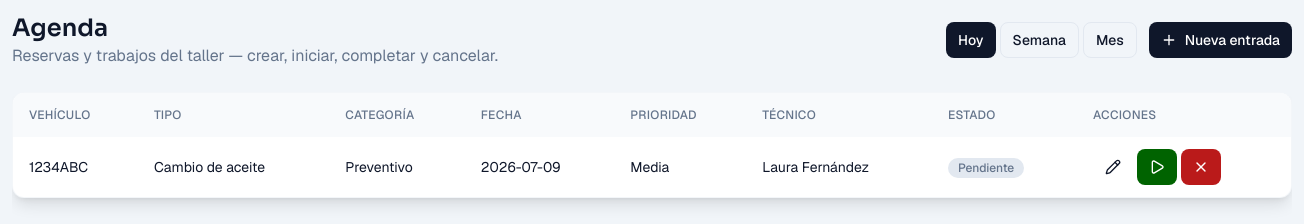
Test: Workshop (Agenda) › starting a linked schedule transitions its badge from Pendiente to En curso
Expected: the text "Pendiente" is shown, [948,158,1024,178]
Expected: the text "Preventivo" is shown, [329,137,465,197]
Click the button named "iniciar".
click(1157, 167)  # box [1137,149,1177,185]
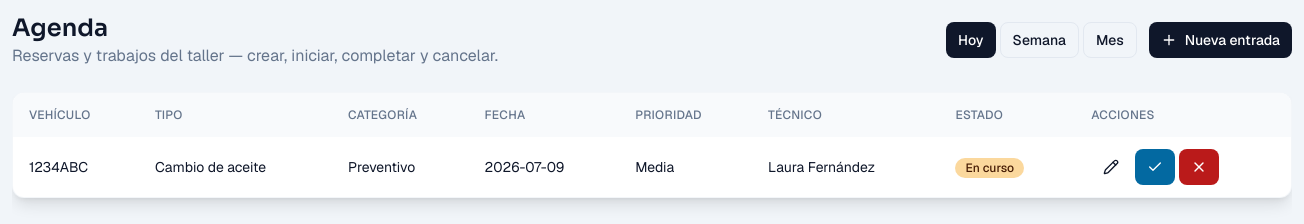
Expected: the text "En curso" is shown, [955,158,1024,178]
